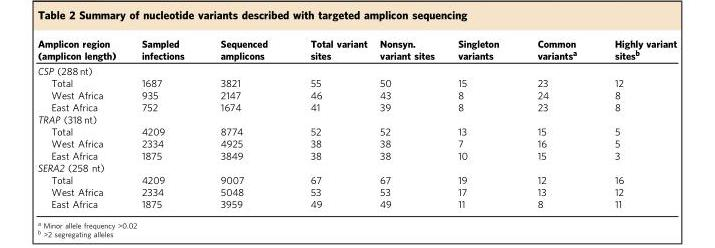table: (36, 37, 676, 209)
table column: (36, 37, 128, 209), (201, 37, 288, 209), (288, 37, 372, 209), (595, 37, 676, 209), (517, 37, 595, 209), (128, 37, 201, 209), (372, 37, 445, 209), (445, 37, 517, 209)
table column header: (36, 37, 676, 62)
table projected row header: (36, 62, 676, 76), (36, 112, 676, 124), (36, 161, 676, 173)
table row: (36, 37, 676, 62), (36, 62, 676, 76), (36, 136, 676, 149), (36, 76, 676, 88), (36, 88, 676, 100), (36, 100, 676, 112), (36, 112, 676, 124), (36, 124, 676, 136), (36, 149, 676, 161), (36, 161, 676, 173), (36, 173, 676, 185), (36, 185, 676, 197), (36, 197, 676, 209)
